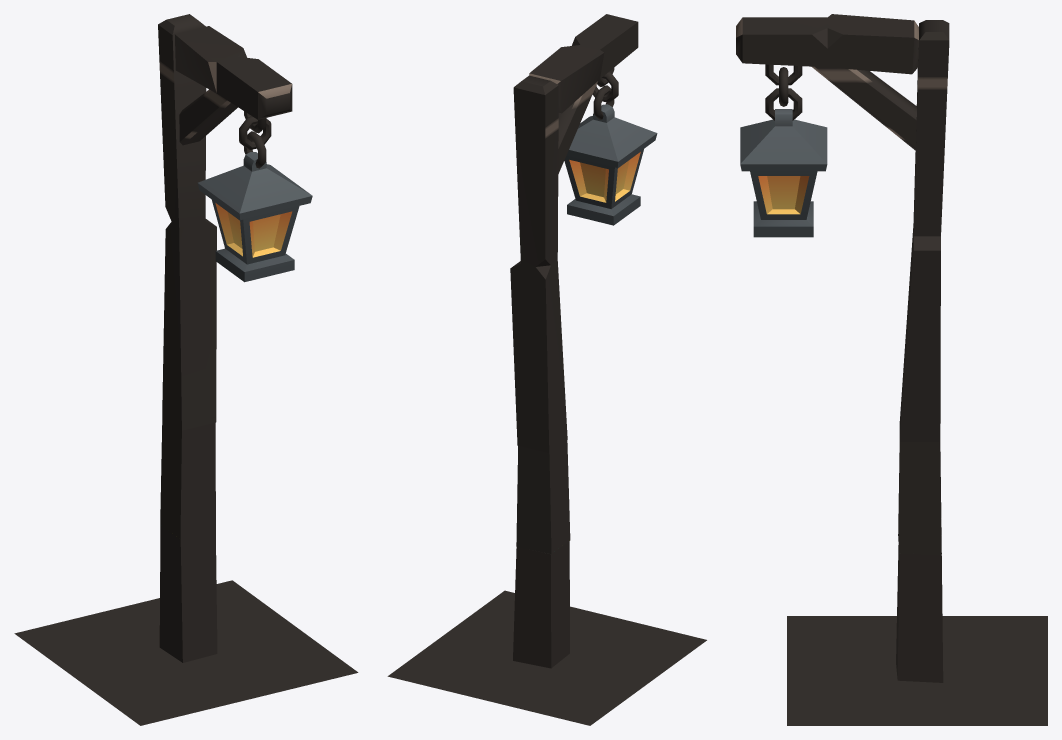
Rendered from lightStand.glb.
3 views of the same model, side by side, from view 1: azimuth 30°, elevation 25°; view 2: azimuth 150°, elevation 25°; view 3: azimuth 270°, elevation 25° (orthographic). The views are drawn at different scales.
Visible parts, largest first — view 1: post_lantern, post_lantern_lantern; view 2: post_lantern, post_lantern_lantern; view 3: post_lantern, post_lantern_lantern.
Boxes of the visible parts, <box> form: post_lantern: <box>14,14,358,725</box>; post_lantern_lantern: <box>197,111,312,282</box>; post_lantern: <box>387,14,706,725</box>; post_lantern_lantern: <box>564,68,657,225</box>; post_lantern: <box>736,14,1047,725</box>; post_lantern_lantern: <box>740,64,827,237</box>.
Bounding box in the file's own units: 1.91 × 5.24 × 2.29.
1 material, 1 textured.
